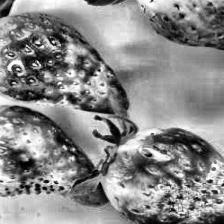Powdery Mildew Fruit: (0, 10, 130, 116), (97, 127, 224, 224), (0, 104, 108, 207)
